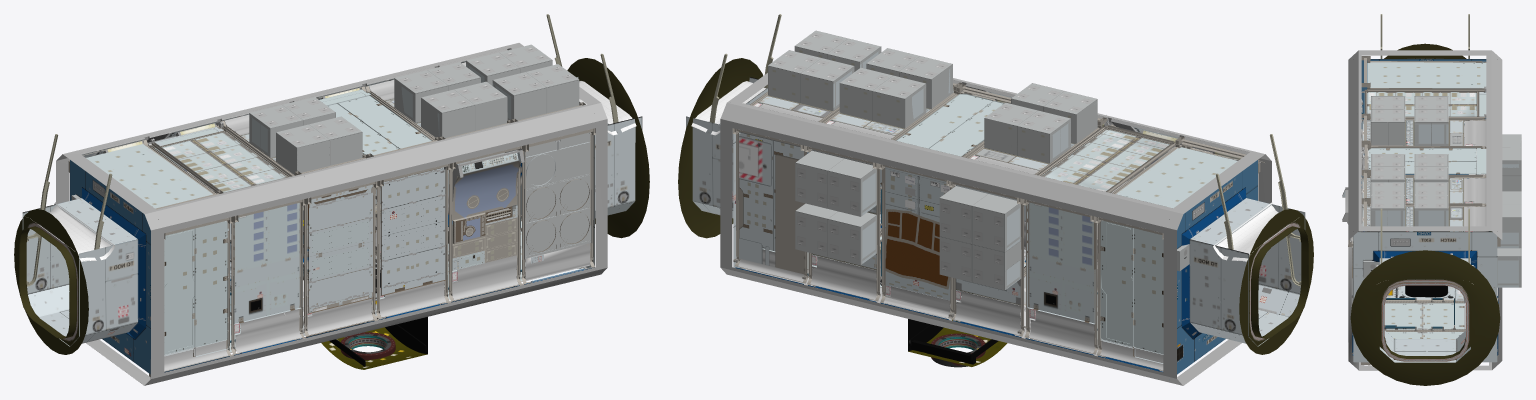
The model's file is US_Lab.fbx.
The picture shows the model from 3 angles, left to right: view 1: azimuth 30°, elevation 25°; view 2: azimuth 150°, elevation 25°; view 3: azimuth 270°, elevation 25°; orthographic projection. The views are drawn at different scales.
Visible parts, largest first — view 1: US_Lab_Int_Racks, US_Lab_Int_MainFrame, US_Lab_Int_AFT_Bulkhead, US_Lab_Int_FWD_Bulkhead, EXPRESS_Racks_ATLAS_2_Base, EXPRESS_Racks_ATLAS_6_Base, EXPRESS_Racks_ATLAS_1_Base, US_Lab_Int_MainFrame_Upper_Port, US_Lab_Int_Metals_AFT, EXPRESS_Racks_ATLAS_Glacier, EXPRESS_Racks_ATLAS_1_Locker_NoDoor_01, US_Lab_Int_MainFrame_Lower_Stbd (+1 smaller); view 2: US_Lab_Int_Racks, US_Lab_Int_MainFrame, US_Lab_Int_AFT_Bulkhead, EXPRESS_Racks_ATLAS_11B_Base, US_Lab_Int_FWD_Bulkhead, EXPRESS_Racks_ATLAS_7_Base, EXPRESS_Racks_ATLAS_1_Base, EXPRESS_Racks_ATLAS_2_Base, EXPRESS_Racks_ATLAS_6_Base, US_Lab_Int_Metals_AFT, US_Lab_Int_MainFrame_Upper_Stbd, EXPRESS_Racks_ATLAS_6_Polar (+6 smaller); view 3: US_Lab_Int_FWD_Bulkhead, US_Lab_Int_Racks, US_Lab_Int_MainFrame, EXPRESS_Racks_ATLAS_2_Base, EXPRESS_Racks_ATLAS_6_Base, EXPRESS_Racks_ATLAS_1_Base, EXPRESS_Racks_ATLAS_7_Base, US_Lab_Int_AFT_Bulkhead, US_Lab_Int_Metals_FWD, EXPRESS_Racks_ATLAS_T-CMM, EXPRESS_Racks_ATLAS_11B_Base, EXPRESS_Racks_ATLAS_6_BRIC-LED (+13 smaller).
Boxes of the visible parts, bbox=[...] form: US_Lab_Int_Racks: bbox=[68, 62, 595, 376]; US_Lab_Int_MainFrame: bbox=[56, 43, 607, 385]; US_Lab_Int_AFT_Bulkhead: bbox=[14, 160, 158, 374]; US_Lab_Int_FWD_Bulkhead: bbox=[506, 49, 649, 268]; EXPRESS_Racks_ATLAS_2_Base: bbox=[466, 44, 579, 120]; EXPRESS_Racks_ATLAS_6_Base: bbox=[241, 97, 362, 172]; EXPRESS_Racks_ATLAS_1_Base: bbox=[385, 62, 507, 138]; US_Lab_Int_MainFrame_Upper_Port: bbox=[80, 49, 507, 157]; US_Lab_Int_Metals_AFT: bbox=[26, 127, 376, 342]; EXPRESS_Racks_ATLAS_Glacier: bbox=[276, 132, 328, 174]; EXPRESS_Racks_ATLAS_1_Locker_NoDoor_01: bbox=[475, 97, 507, 130]; US_Lab_Int_MainFrame_Lower_Stbd: bbox=[164, 267, 592, 372]; US_Lab_Int_Racks: bbox=[732, 82, 1260, 371]; US_Lab_Int_MainFrame: bbox=[720, 73, 1271, 385]; US_Lab_Int_AFT_Bulkhead: bbox=[1169, 160, 1313, 374]; EXPRESS_Racks_ATLAS_11B_Base: bbox=[939, 185, 1021, 305]; US_Lab_Int_FWD_Bulkhead: bbox=[678, 58, 818, 268]; EXPRESS_Racks_ATLAS_7_Base: bbox=[795, 149, 876, 270]; EXPRESS_Racks_ATLAS_1_Base: bbox=[831, 48, 953, 135]; EXPRESS_Racks_ATLAS_2_Base: bbox=[758, 30, 881, 117]; EXPRESS_Racks_ATLAS_6_Base: bbox=[975, 83, 1102, 170]; US_Lab_Int_Metals_AFT: bbox=[948, 134, 1301, 333]; US_Lab_Int_MainFrame_Upper_Stbd: bbox=[953, 80, 1249, 154]; EXPRESS_Racks_ATLAS_6_Polar: bbox=[984, 118, 1017, 155]; US_Lab_Int_FWD_Bulkhead: bbox=[1350, 231, 1500, 385]; US_Lab_Int_Racks: bbox=[1342, 56, 1500, 365]; US_Lab_Int_MainFrame: bbox=[1348, 50, 1502, 370]; EXPRESS_Racks_ATLAS_2_Base: bbox=[1362, 182, 1463, 231]; EXPRESS_Racks_ATLAS_6_Base: bbox=[1362, 96, 1463, 145]; EXPRESS_Racks_ATLAS_1_Base: bbox=[1362, 154, 1463, 203]; EXPRESS_Racks_ATLAS_7_Base: bbox=[1497, 232, 1521, 287]; US_Lab_Int_AFT_Bulkhead: bbox=[1361, 43, 1486, 187]; US_Lab_Int_Metals_FWD: bbox=[1380, 208, 1497, 351]; EXPRESS_Racks_ATLAS_T-CMM: bbox=[1502, 204, 1521, 232]; EXPRESS_Racks_ATLAS_11B_Base: bbox=[1502, 138, 1521, 167]; EXPRESS_Racks_ATLAS_6_BRIC-LED: bbox=[1388, 122, 1405, 145].
Bounding box in the file's own units: 8383 × 3802 × 2816.
